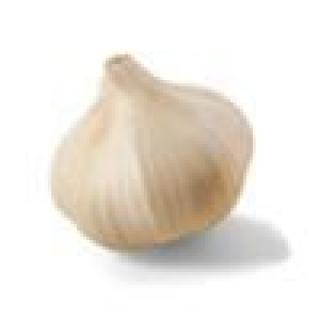Bawang Putih: (39, 46, 273, 251)
